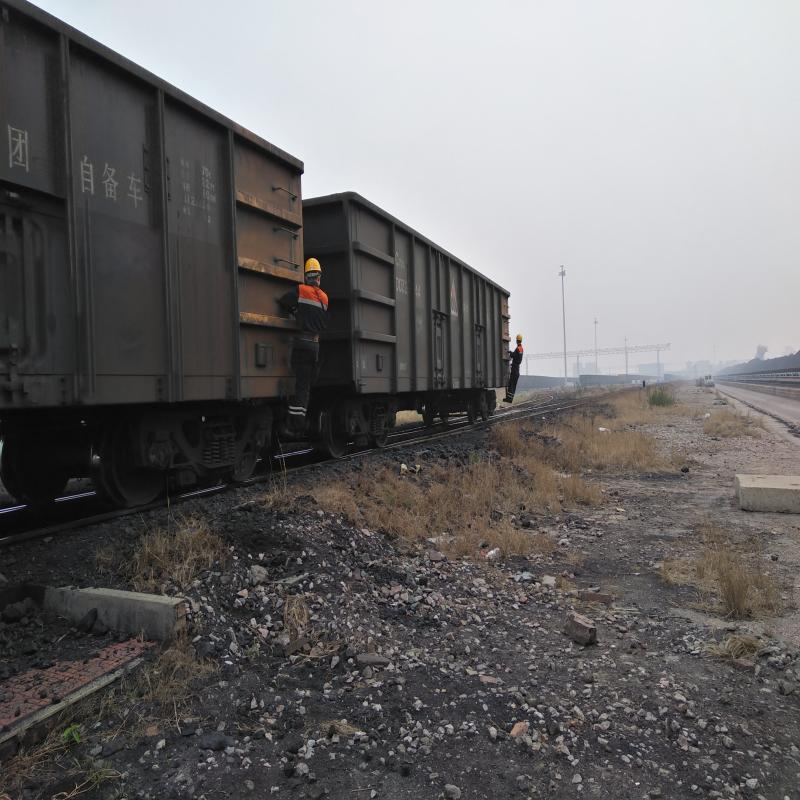train: (342, 200, 499, 430)
